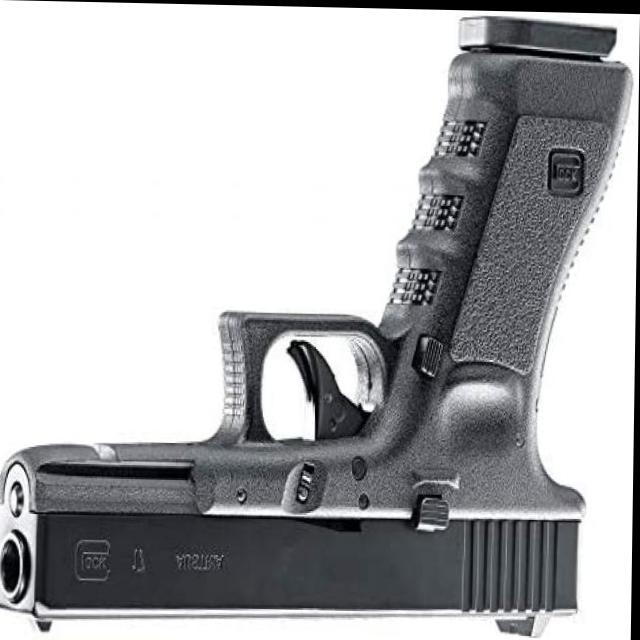handgun: (1, 3, 632, 640)
